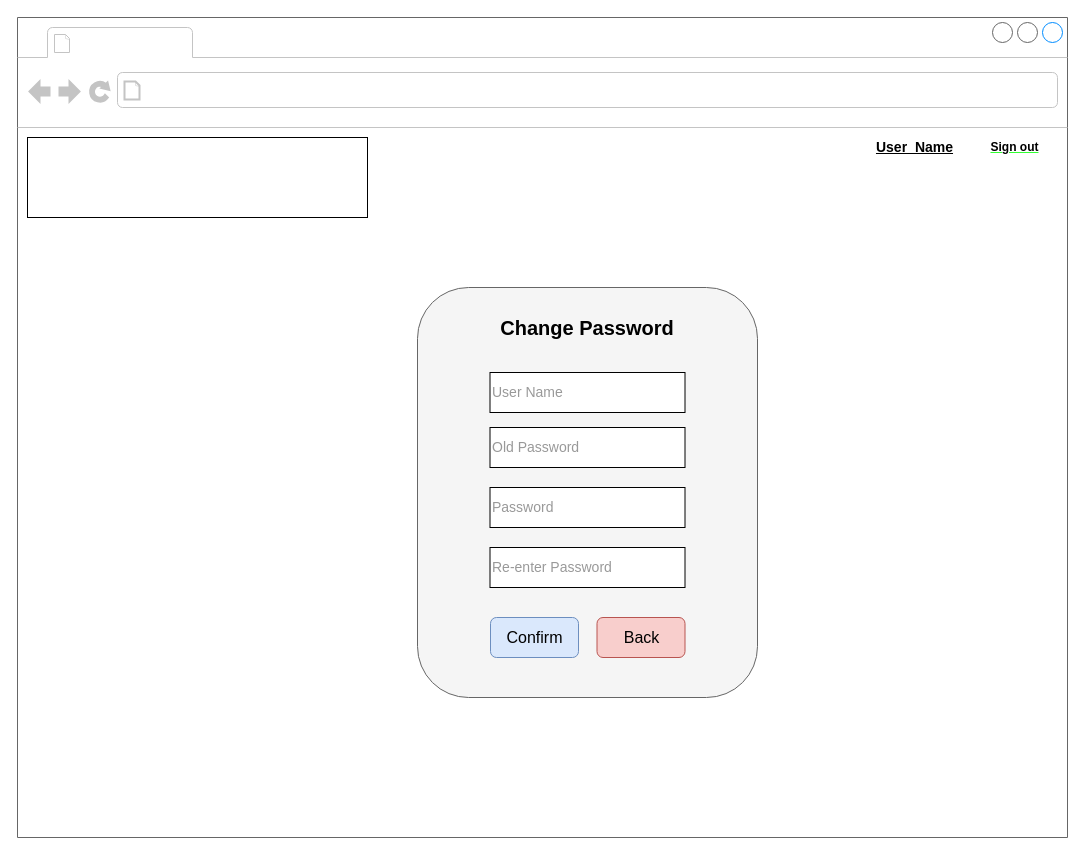
Some shapes in this 1085 by 855 pixel diagram are drawn without their labels. The shapes that lost their labels are listed below. From the top down, each one's box as (x1, y1, x2, y2) in pixels, then its label:
(76, 28, 188, 56): Page 1
(146, 76, 398, 104): https://www.default.com
(26, 136, 368, 218): Logo Area
